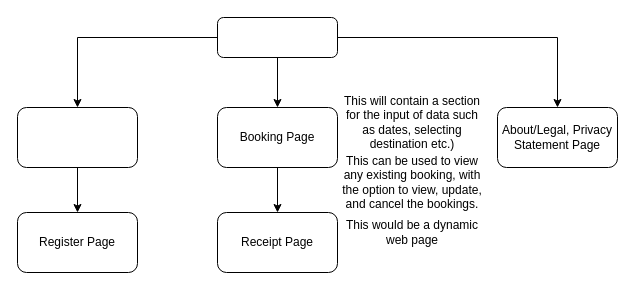
Image size: 635x290. Some labels were removed from this diagram. Each missing label, with the centre of its shape:
"Login Page" belongs at point (77, 137).
"Main/Index" belongs at point (277, 37).
